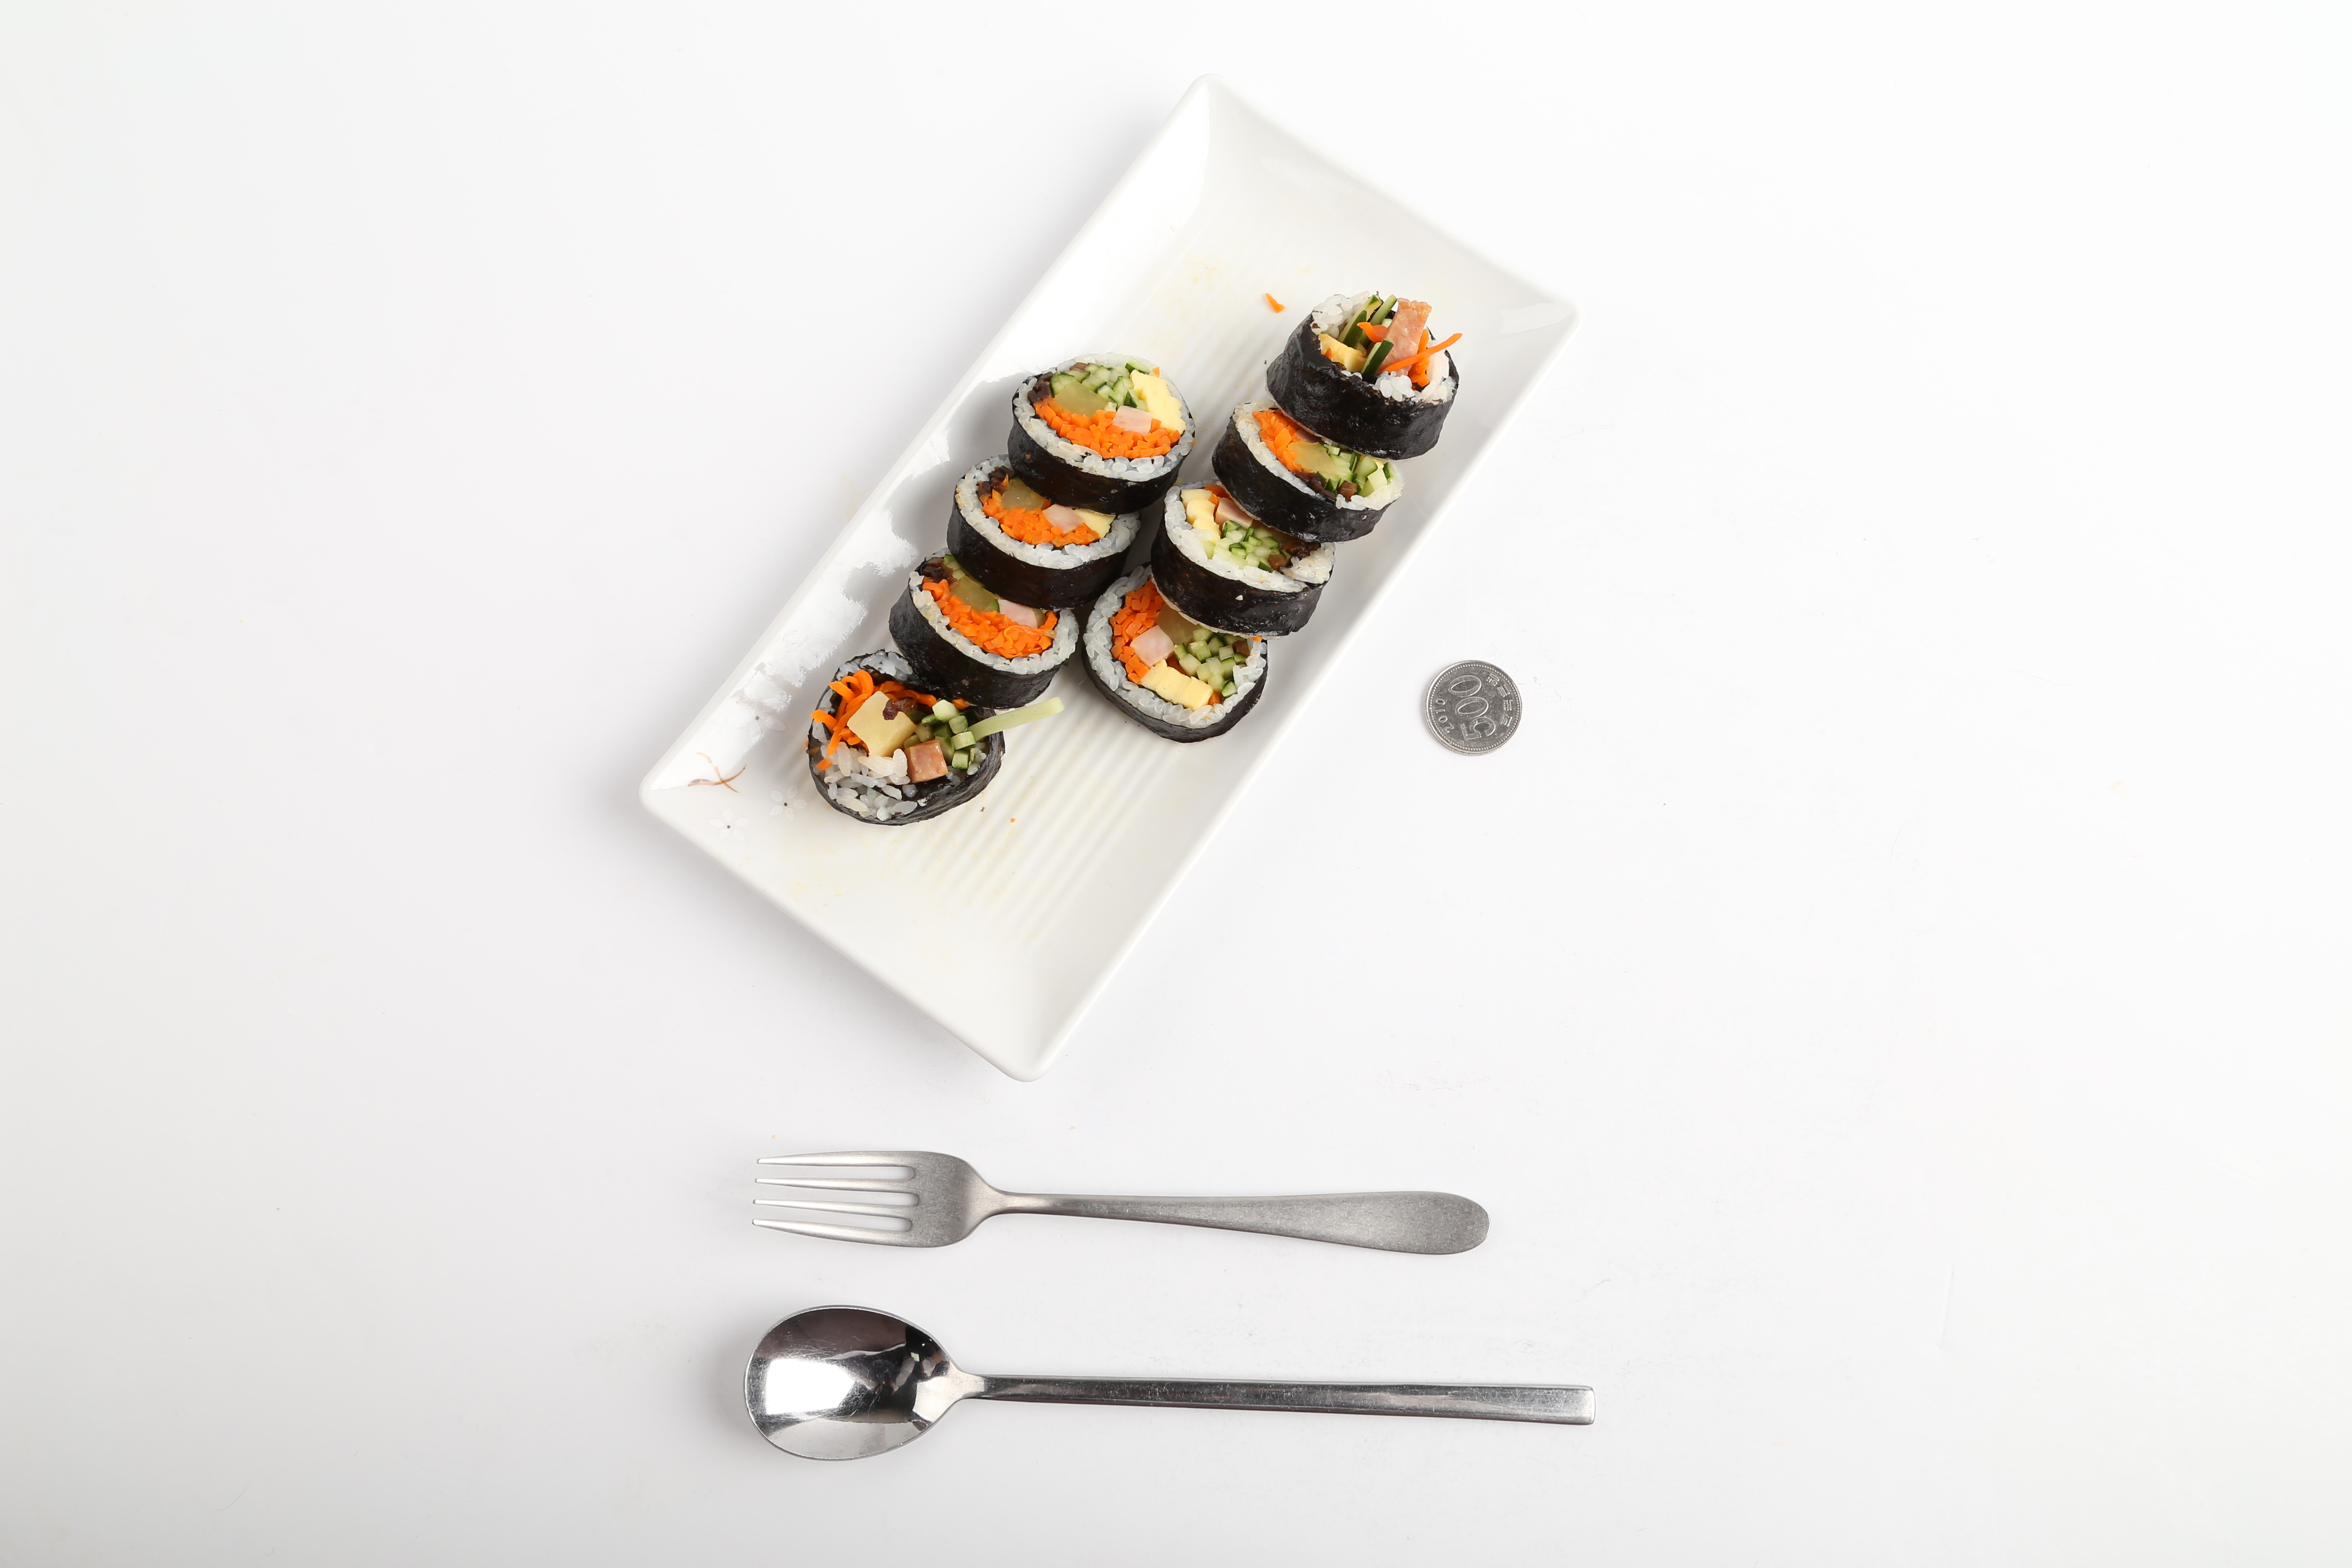dish: (646, 73, 1584, 1085)
ref_coin: (1417, 651, 1526, 761)
ref_fork: (744, 1144, 1076, 1251)
ref_spoon: (737, 1298, 1022, 1468)
김밥: (801, 296, 1454, 829)
